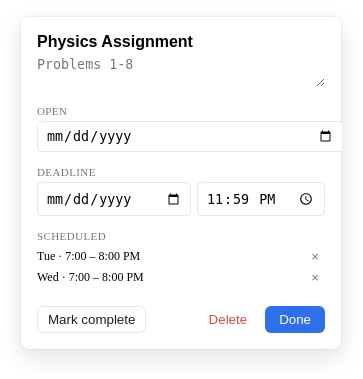
Test: ItemDetail › reverts a blank title without saving
Clear the field with test id "item-title" at [181, 42], box [37,33,325,51]
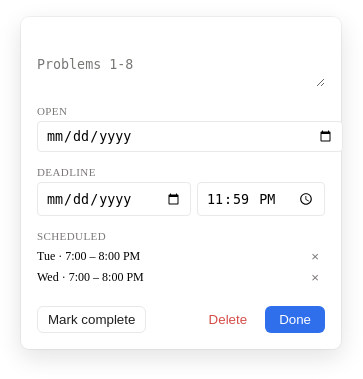
Press Tab
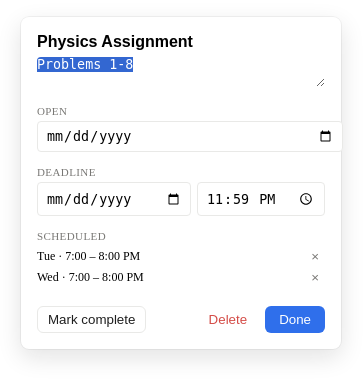
Result: the field with test id "item-title" holds "Physics Assignment" at [37,33,325,51]
